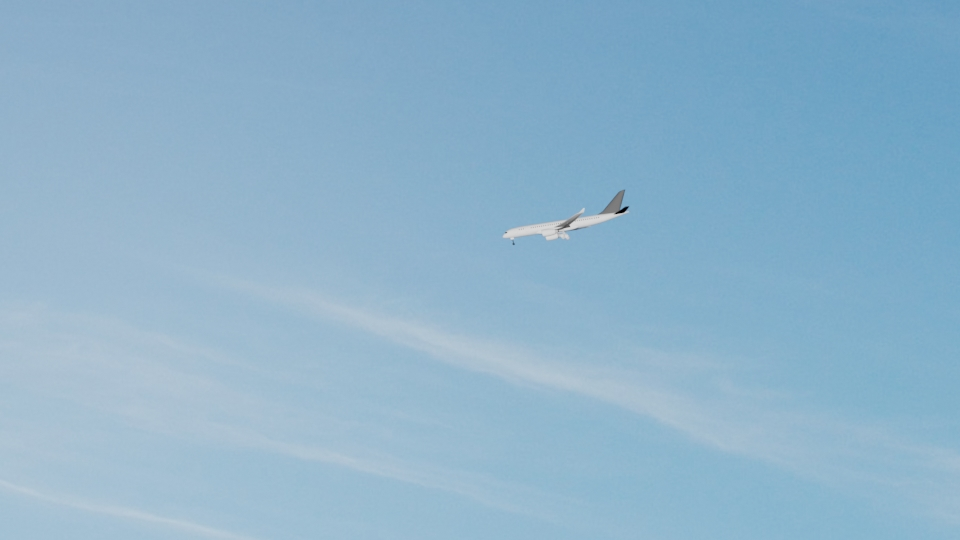plane: (503, 189, 630, 245)
